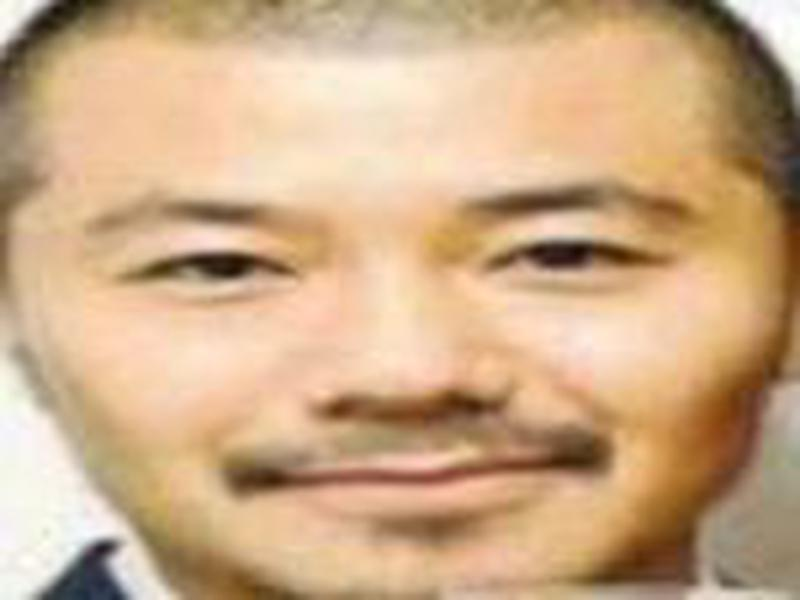without_mask: (21, 36, 768, 593)
